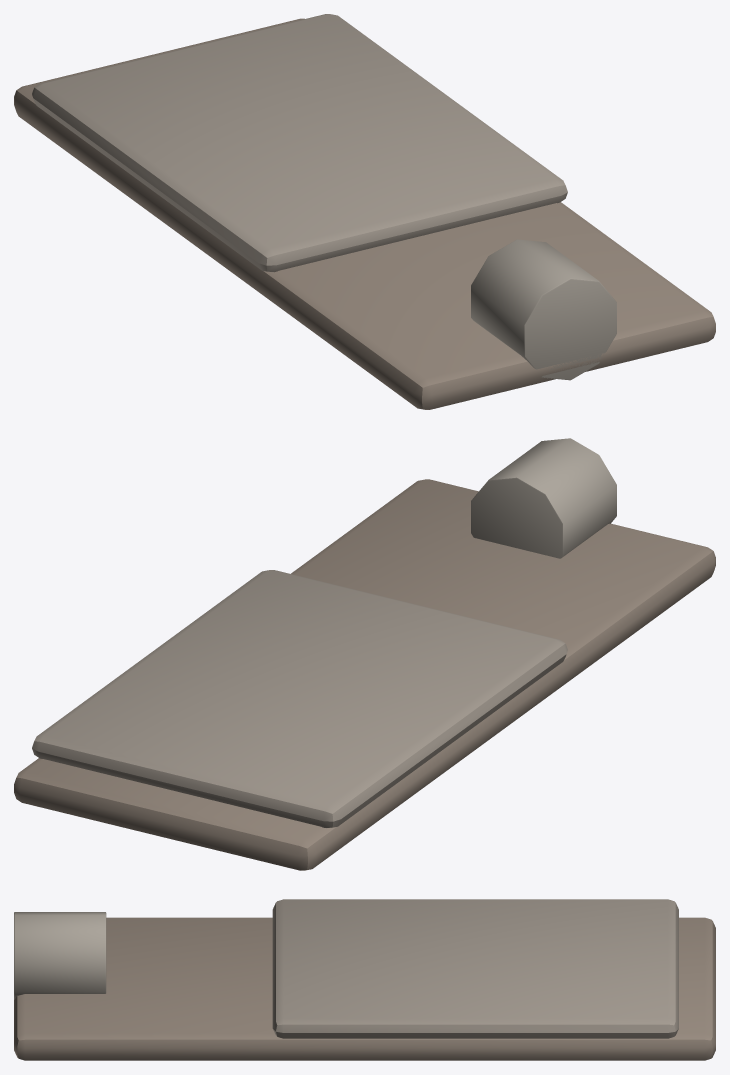
Rendered from bedroll.gltf.
3 views of the same model, one above another, from view 1: azimuth 30°, elevation 25°; view 2: azimuth 150°, elevation 25°; view 3: azimuth 270°, elevation 25° (orthographic). The views are drawn at different scales.
Visible parts, largest first — view 1: Body; view 2: Body; view 3: Body.
Boxes of the visible parts, x1,y1,x2,y2 form: Body: [14, 14, 715, 409]; Body: [14, 438, 715, 870]; Body: [14, 899, 715, 1060].
Size of the model in its own units: 0.82 by 0.26 by 1.9.
